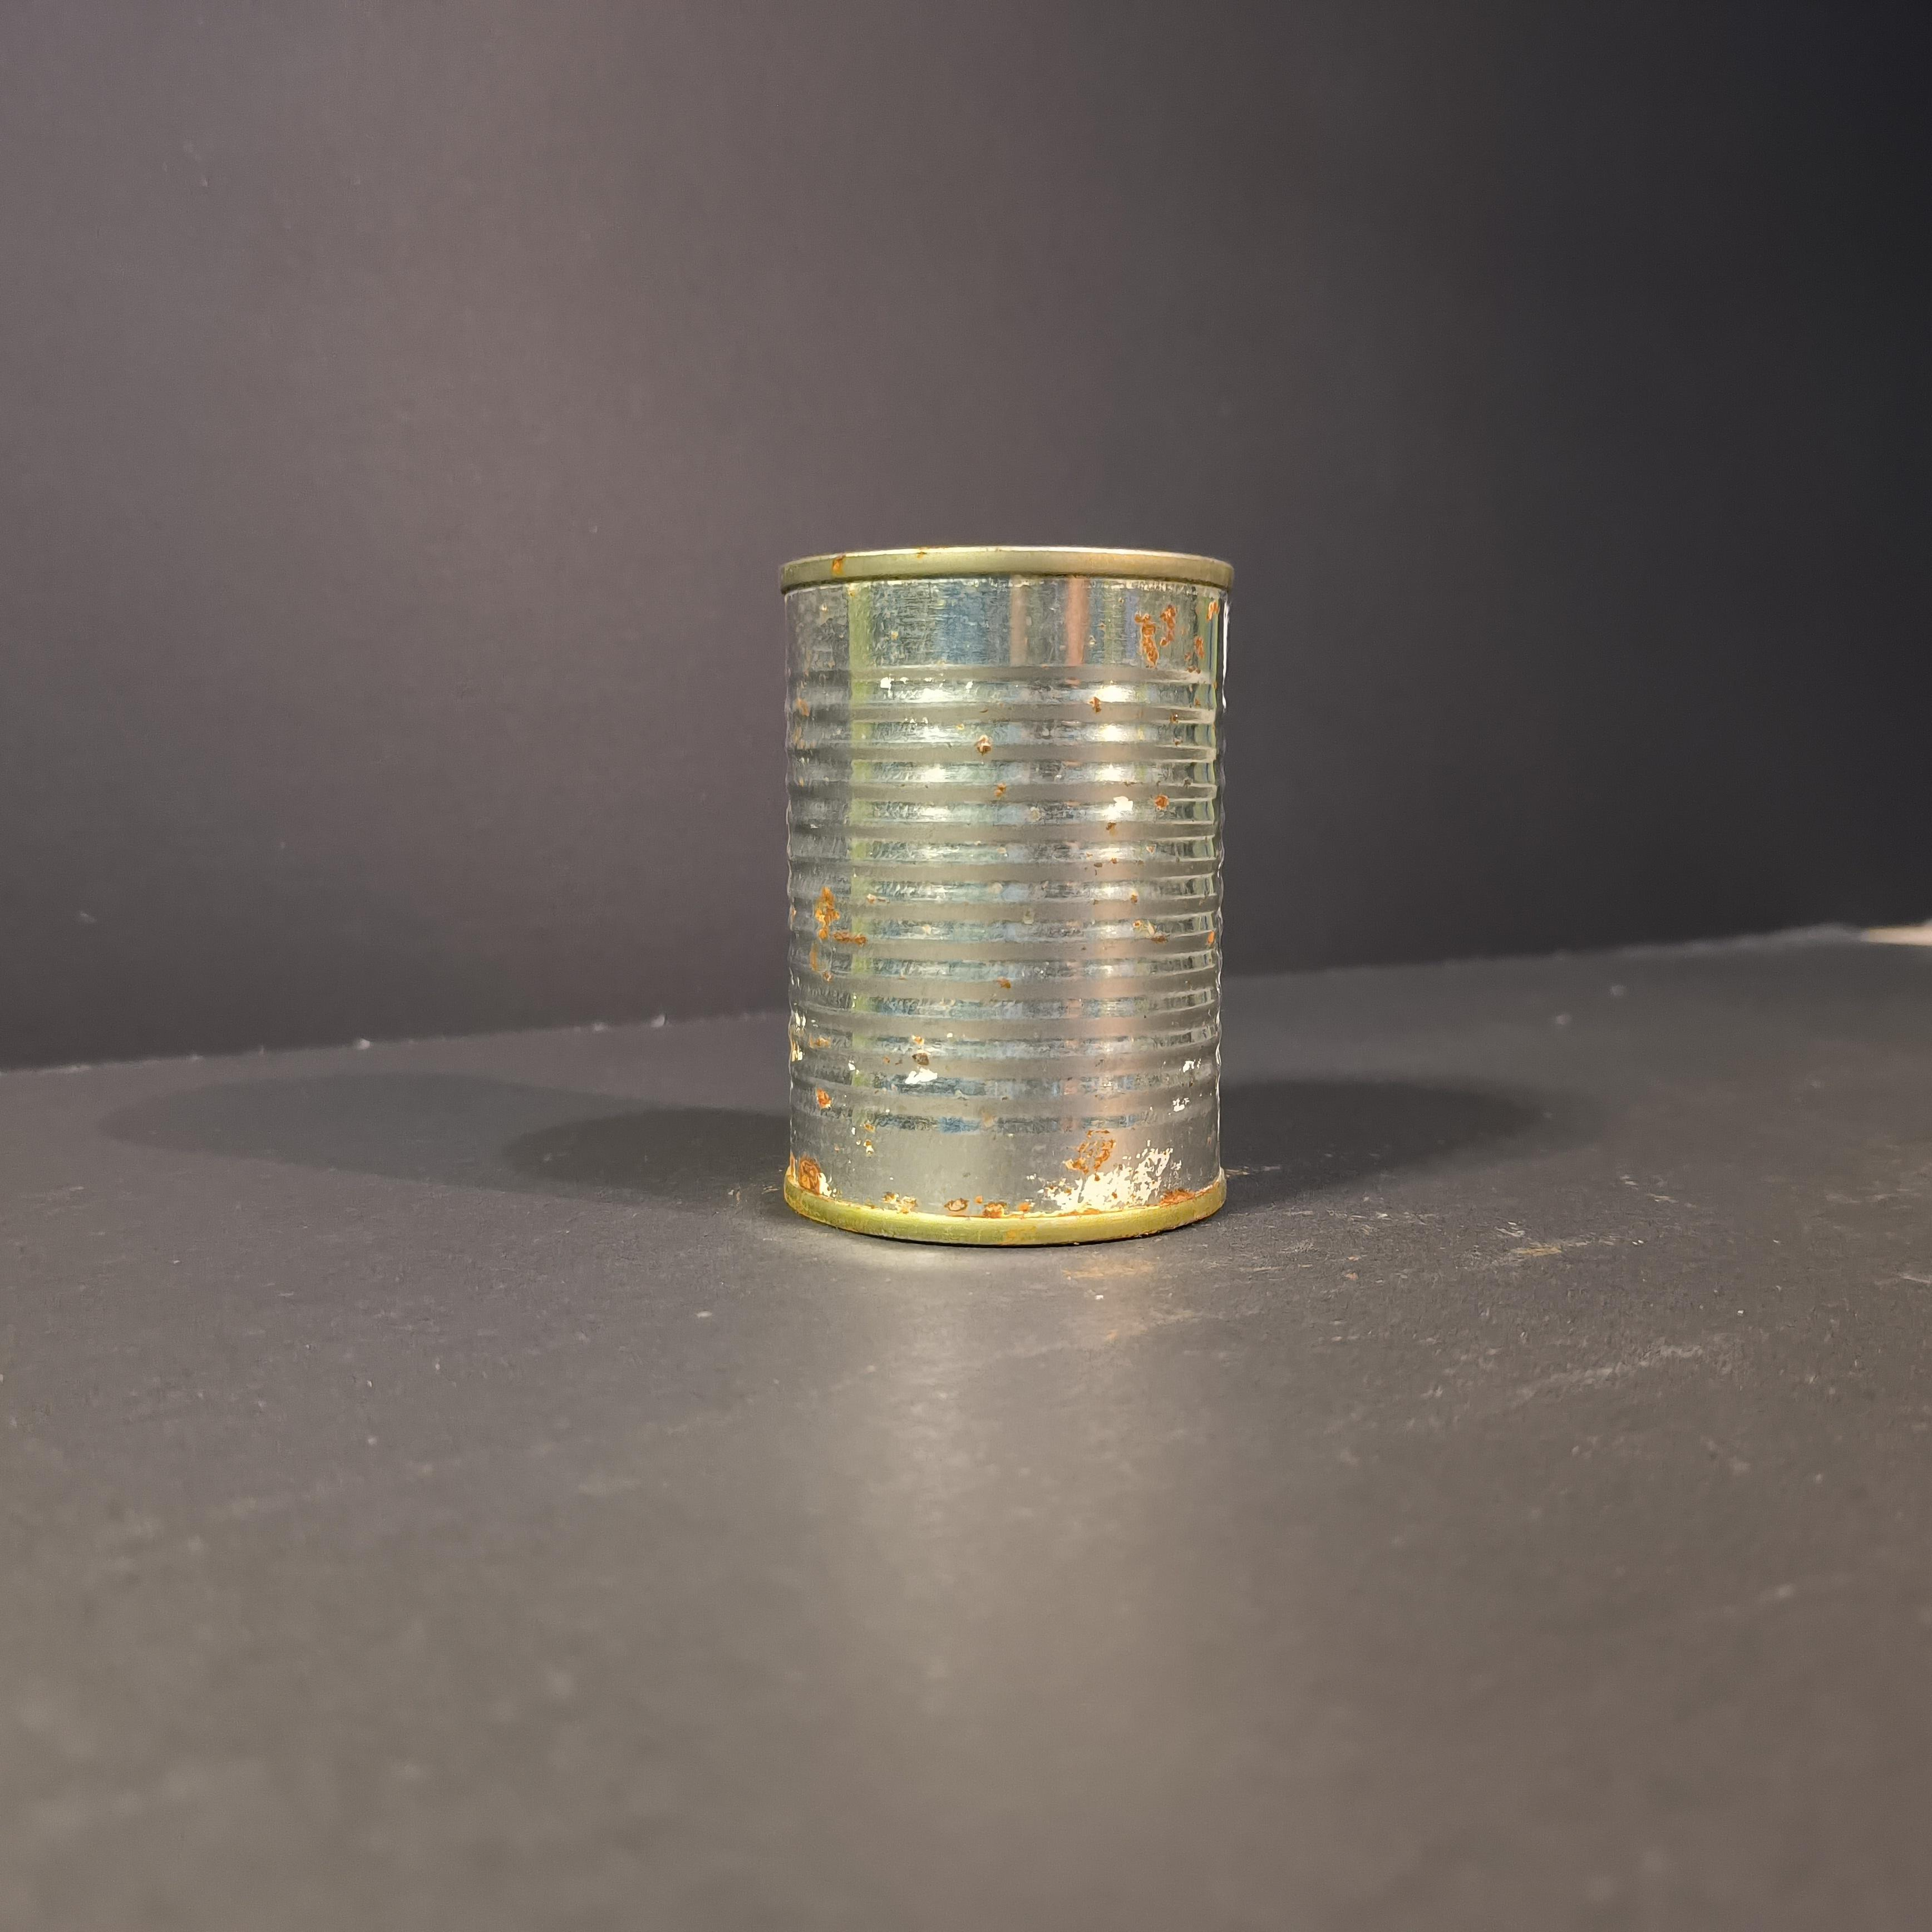Rusted: (764, 529, 1247, 1263)
